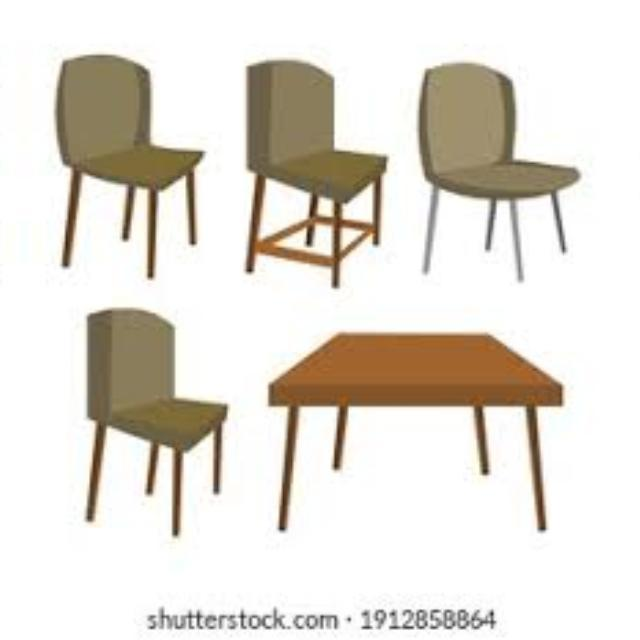obstacle: (402, 36, 600, 298), (44, 22, 218, 282), (236, 27, 388, 297), (70, 293, 226, 547), (632, 36, 640, 298), (0, 22, 2, 282)
